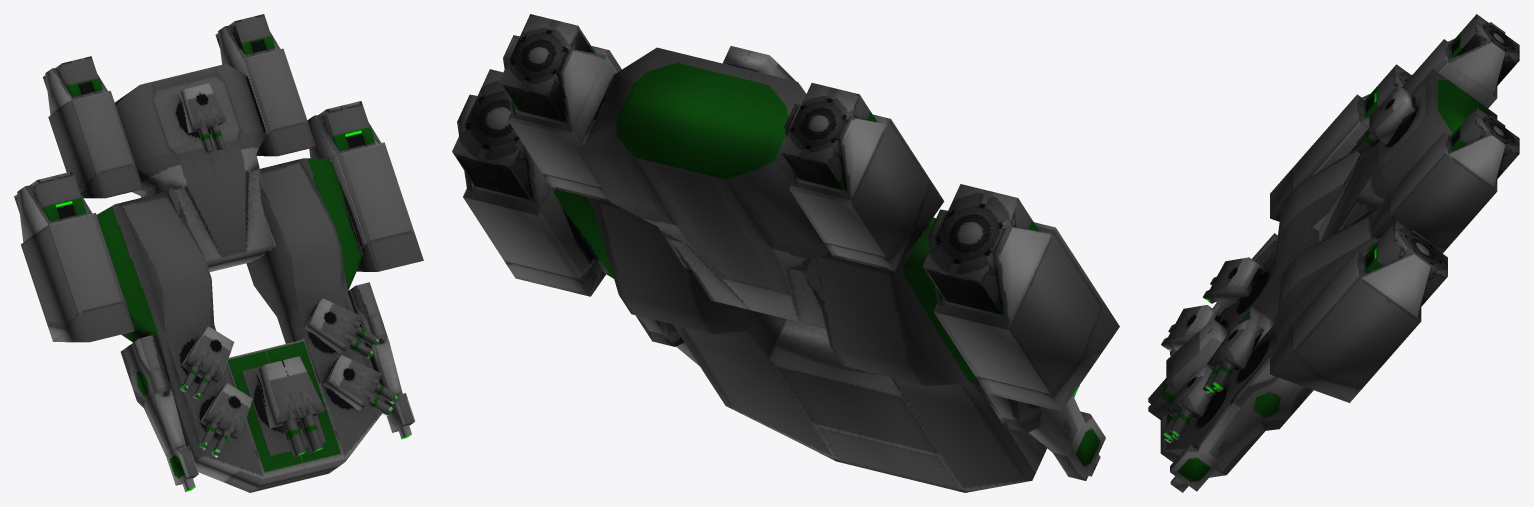
Rendered from boss_green_01.fbx.
3 views of the same model, side by side, from view 1: azimuth 30°, elevation 25°; view 2: azimuth 150°, elevation 25°; view 3: azimuth 270°, elevation 25° (orthographic). The views are drawn at different scales.
Parts seen in each view (by area): view 1: UnionCruiserMod; view 2: UnionCruiserMod; view 3: UnionCruiserMod.
Part boxes in pixels (box(x1,y1,x2,y2)): UnionCruiserMod: box(14, 14, 423, 492); UnionCruiserMod: box(452, 14, 1119, 492); UnionCruiserMod: box(1148, 14, 1519, 492).
Bounding box in the file's own units: 3928 × 3405 × 3946.
1 material, 1 textured.
